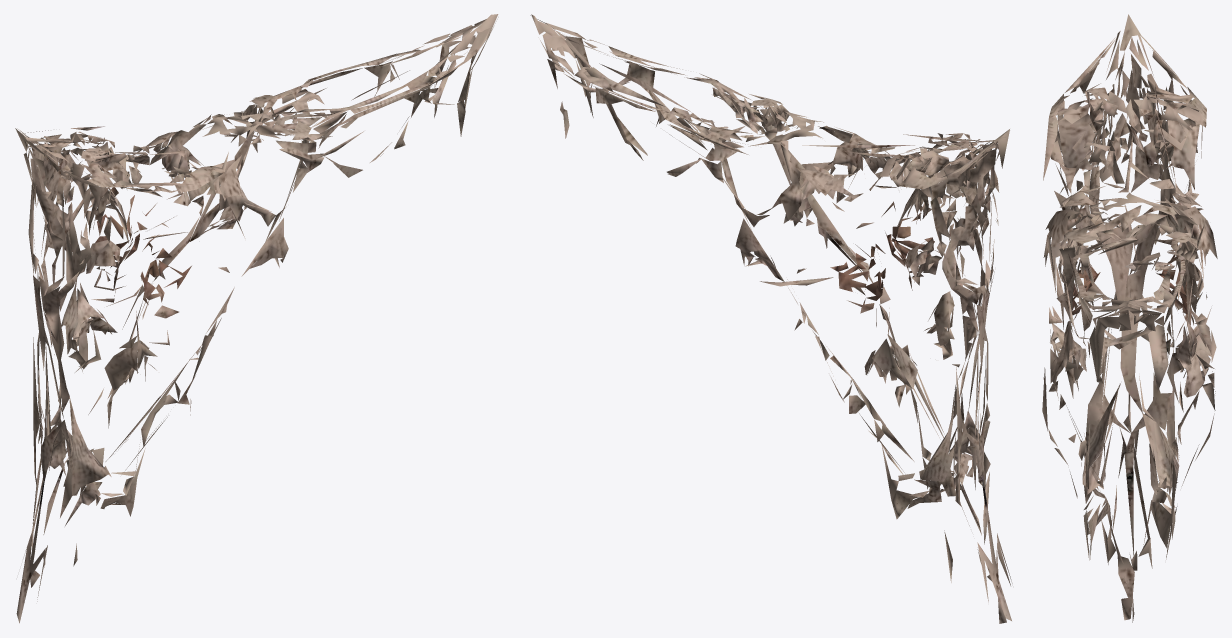
The model's file is dec_corner_cobweb.glb.
3 renders of one model, left to right at view 1: azimuth 30°, elevation 25°; view 2: azimuth 150°, elevation 25°; view 3: azimuth 270°, elevation 25°, orthographic. The views are drawn at different scales.
Size of the model in its own units: 1.02 by 0.9987 by 0.2627.
Materials: 1 (1 with a texture image).
